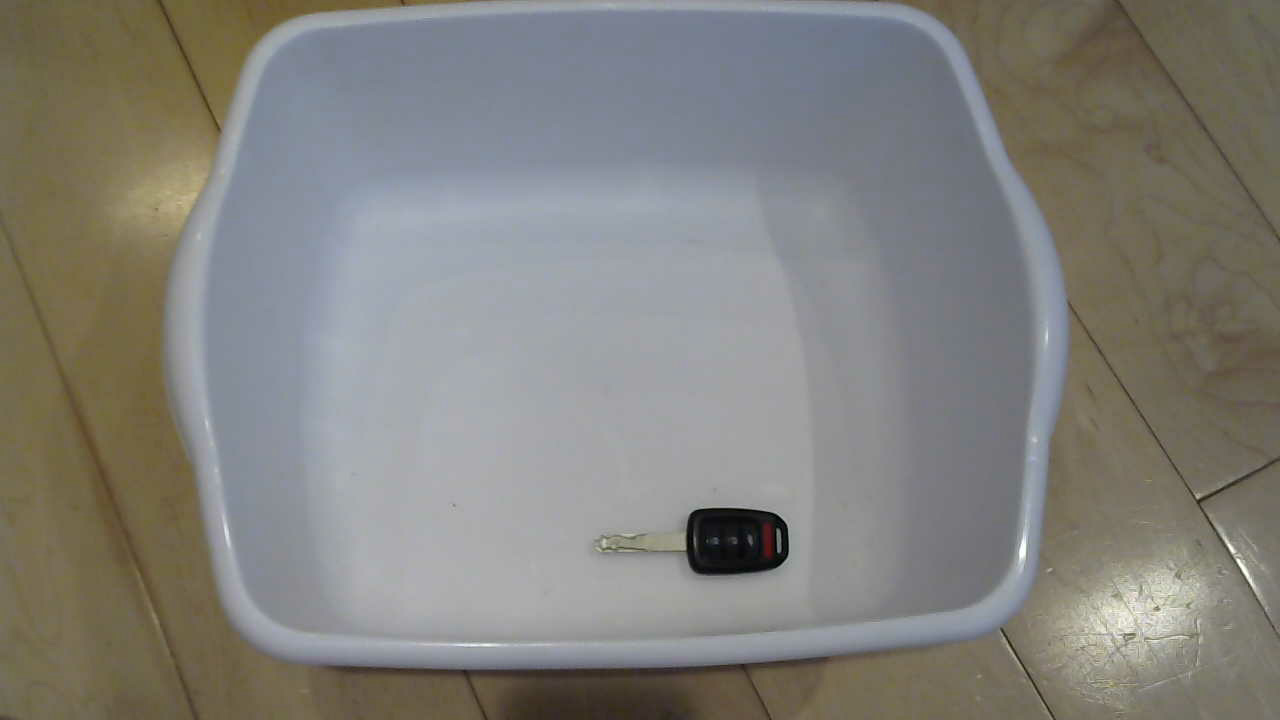key: (595, 499, 810, 588)
